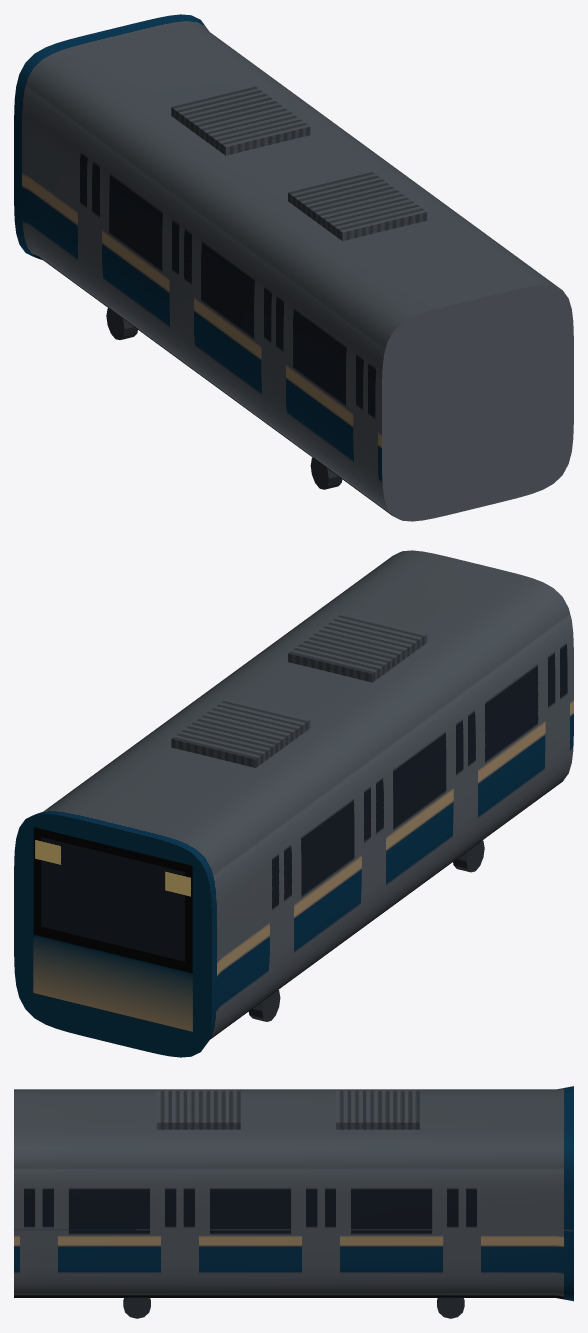
The model's file is Commuter_Cream.fbx.
The picture shows the model from 3 angles, top to bottom: view 1: azimuth 30°, elevation 25°; view 2: azimuth 150°, elevation 25°; view 3: azimuth 270°, elevation 25°; orthographic projection. The views are drawn at different scales.
Parts seen in each view (by area): view 1: Commuter_Cream, Commuter_Cream_Cap-1, Commuter_Cream_Root_AirCon1, Commuter_Cream_Root_AirCon0; view 2: Commuter_Cream, Commuter_Cream_Cap1, Commuter_Cream_Root_AirCon0, Commuter_Cream_Root_AirCon1; view 3: Commuter_Cream, Commuter_Cream_Root_AirCon0, Commuter_Cream_Root_AirCon1, Commuter_Cream_Root_Wheel.002, Commuter_Cream_Root_Wheel.
Part boxes in pixels (x1=…): Commuter_Cream: x1=14, y1=14, x2=561, y2=515; Commuter_Cream_Cap-1: x1=382, y1=285, x2=573, y2=521; Commuter_Cream_Root_AirCon1: x1=171, y1=86, x2=310, y2=155; Commuter_Cream_Root_AirCon0: x1=288, y1=172, x2=427, y2=241; Commuter_Cream: x1=36, y1=550, x2=573, y2=1043; Commuter_Cream_Cap1: x1=14, y1=813, x2=212, y2=1057; Commuter_Cream_Root_AirCon0: x1=288, y1=613, x2=427, y2=682; Commuter_Cream_Root_AirCon1: x1=171, y1=699, x2=310, y2=767; Commuter_Cream: x1=14, y1=1086, x2=573, y2=1301; Commuter_Cream_Root_AirCon0: x1=156, y1=1091, x2=240, y2=1129; Commuter_Cream_Root_AirCon1: x1=336, y1=1091, x2=419, y2=1129; Commuter_Cream_Root_Wheel.002: x1=123, y1=1297, x2=150, y2=1318; Commuter_Cream_Root_Wheel: x1=437, y1=1297, x2=464, y2=1318.
Bounding box in the file's own units: 109 × 125 × 347.
2 materials, 1 textured.
